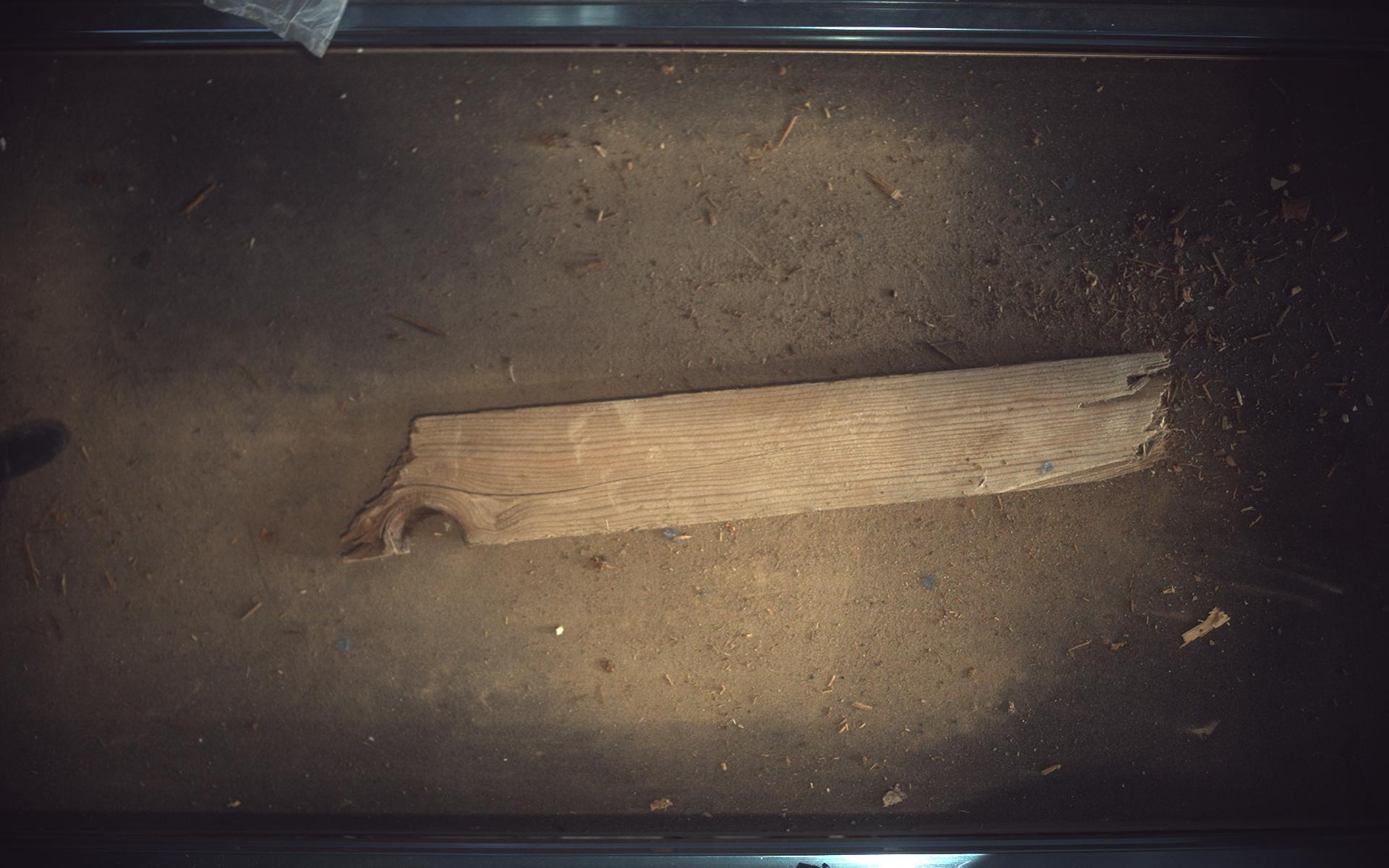wood: (341, 352, 1172, 562)
